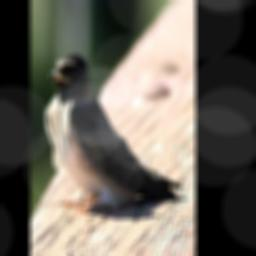Swallow: (44, 51, 184, 215)
